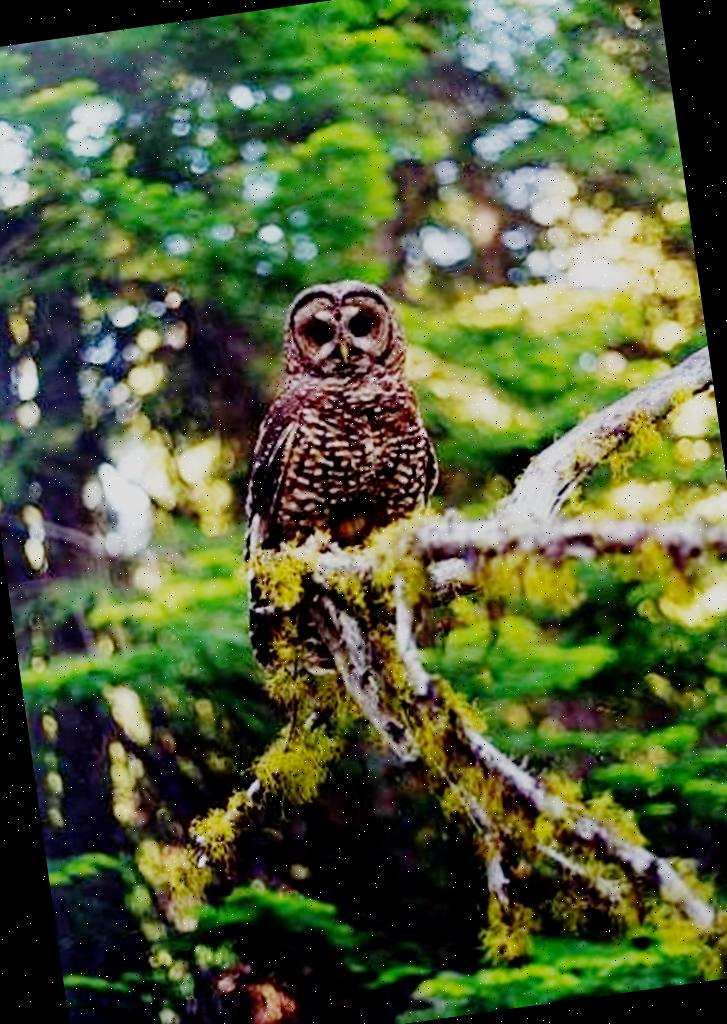Owl: (195, 284, 472, 708)
